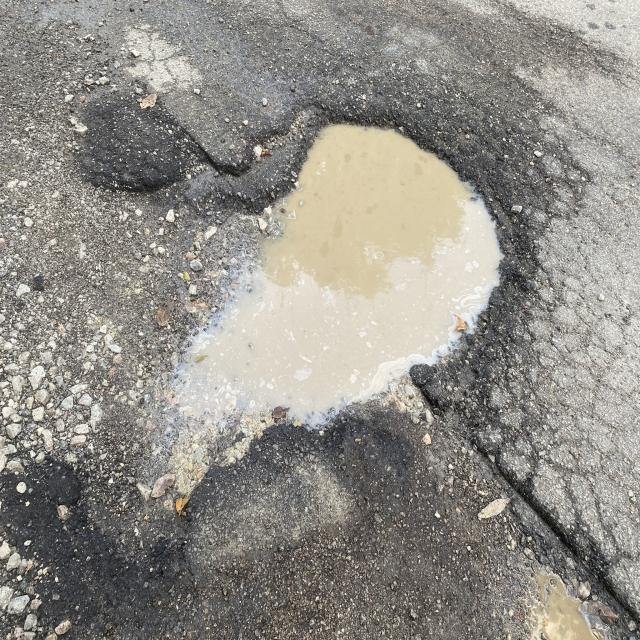Pothole: (125, 56, 575, 506)
